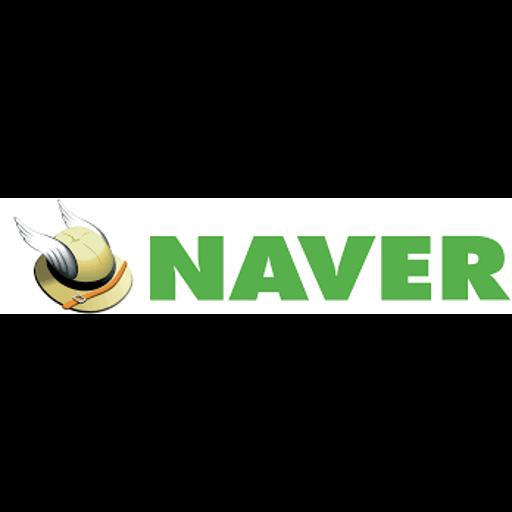Naver: (0, 198, 512, 314)
